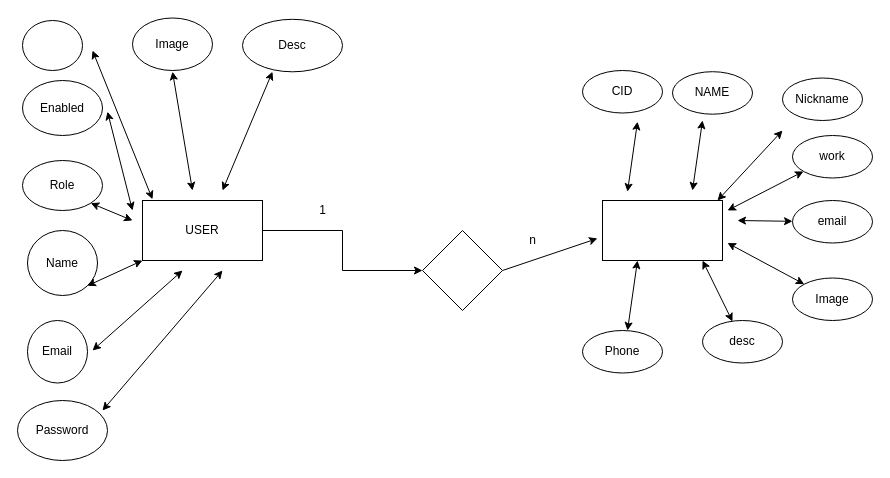
The diagram is 890 pixels wide and 478 high, and some of its shapes have lost their labels. The shapes that lost their labels are listed below. From the top down, each one's centre as x and y in pixels, then its label:
At pixel 52 45: "ID".
At pixel 662 230: "CONTACT".
At pixel 462 270: "has".
